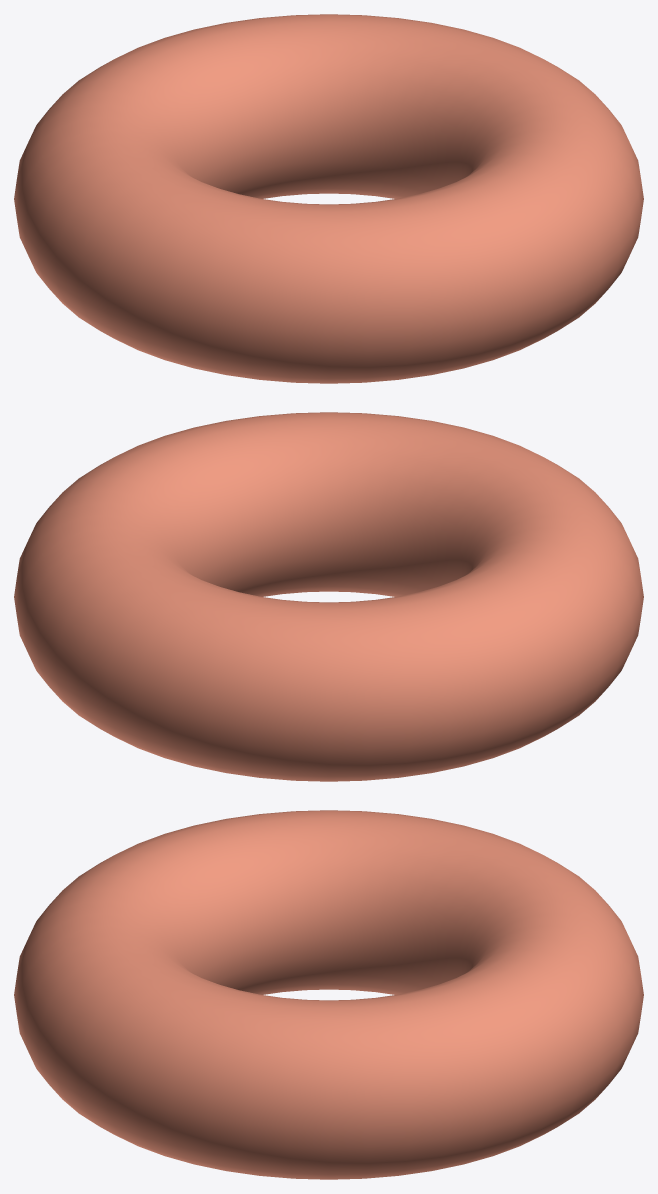
The picture shows the model from 3 angles, top to bottom: view 1: azimuth 30°, elevation 25°; view 2: azimuth 150°, elevation 25°; view 3: azimuth 270°, elevation 25°; orthographic projection.
Visible parts, largest first — view 1: generated; view 2: generated; view 3: generated.
Boxes of the visible parts, x1=… form: generated: x1=14, y1=14, x2=643, y2=383; generated: x1=14, y1=412, x2=643, y2=781; generated: x1=14, y1=810, x2=643, y2=1179.
Bounding box in the file's own units: 1.54 × 0.44 × 1.54.
